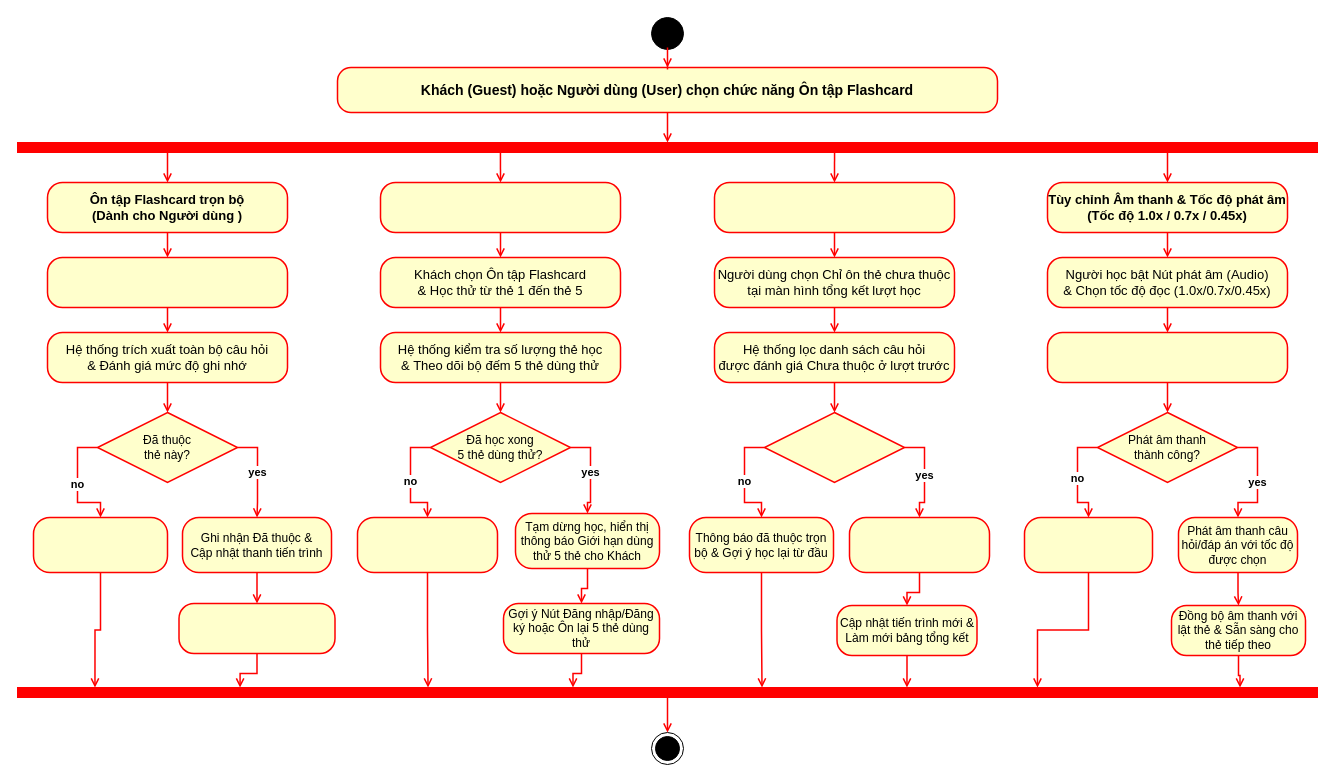
Some shapes in this 1335 by 782 pixel diagram are drawn without their labels. Each missing label, with the centre of its shape:
Cho phép tiếp tục lật thẻ & Đánh giá thuộc/chưa thuộc (Thẻ 1 - 5): (x=427, y=544)
Có thẻ chưa thuộc?: (x=834, y=447)
Ghi nhận Chưa thuộc & Sang thẻ tiếp theo: (x=100, y=544)
Hiển thị bảng tổng kết lượt học & Lưu kết quả học tập vào CSDL: (x=256, y=628)
Hệ thống kết nối Dịch vụ đọc văn bản & Chuyển nội dung thẻ thành âm thanh: (x=1167, y=357)
Khởi tạo bộ thẻ yếu mới & Bắt đầu lượt ôn tập tập trung: (x=919, y=544)
Người dùng chọn Ôn tập Flashcard & Lật mặt trước/mặt sau thẻ 3D: (x=167, y=282)
Thông báo trình duyệt không hỗ trợ sound & Dùng text tĩnh: (x=1088, y=544)
Trải nghiệm Flashcard dùng thử (Dành cho Khách - Giới hạn 5 thẻ): (x=500, y=207)
Ôn tập riêng các thẻ chưa thuộc (Chế độ Tập trung thẻ yếu): (x=834, y=207)
